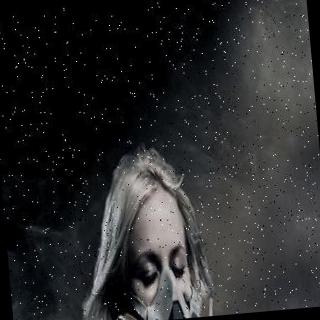smoke: (247, 0, 320, 227), (5, 188, 111, 320), (244, 260, 320, 312)
